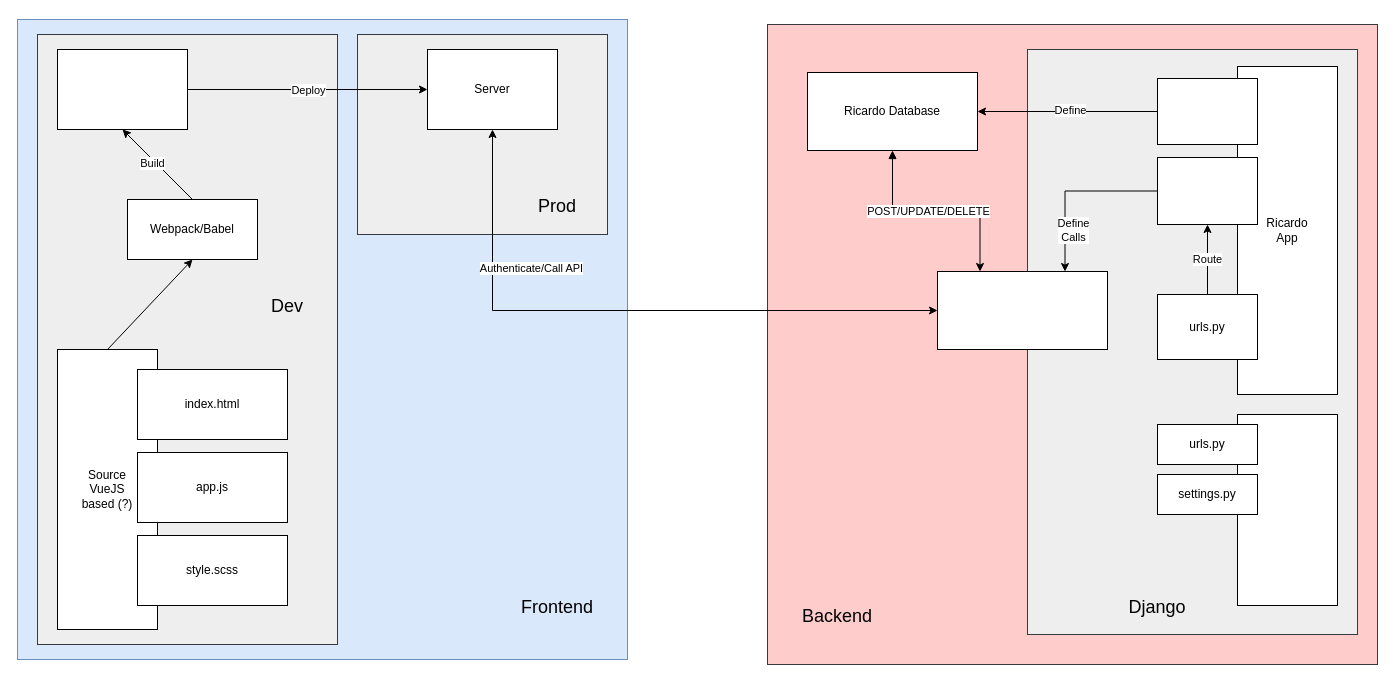
This 1395x682 diagram has some shape labels left out. Each missing label, with the centre of its shape:
Distribution: [122,89]
Django Project: [1287,510]
models.py: [1207,111]
REST API: [1022,310]
views.py: [1207,190]
